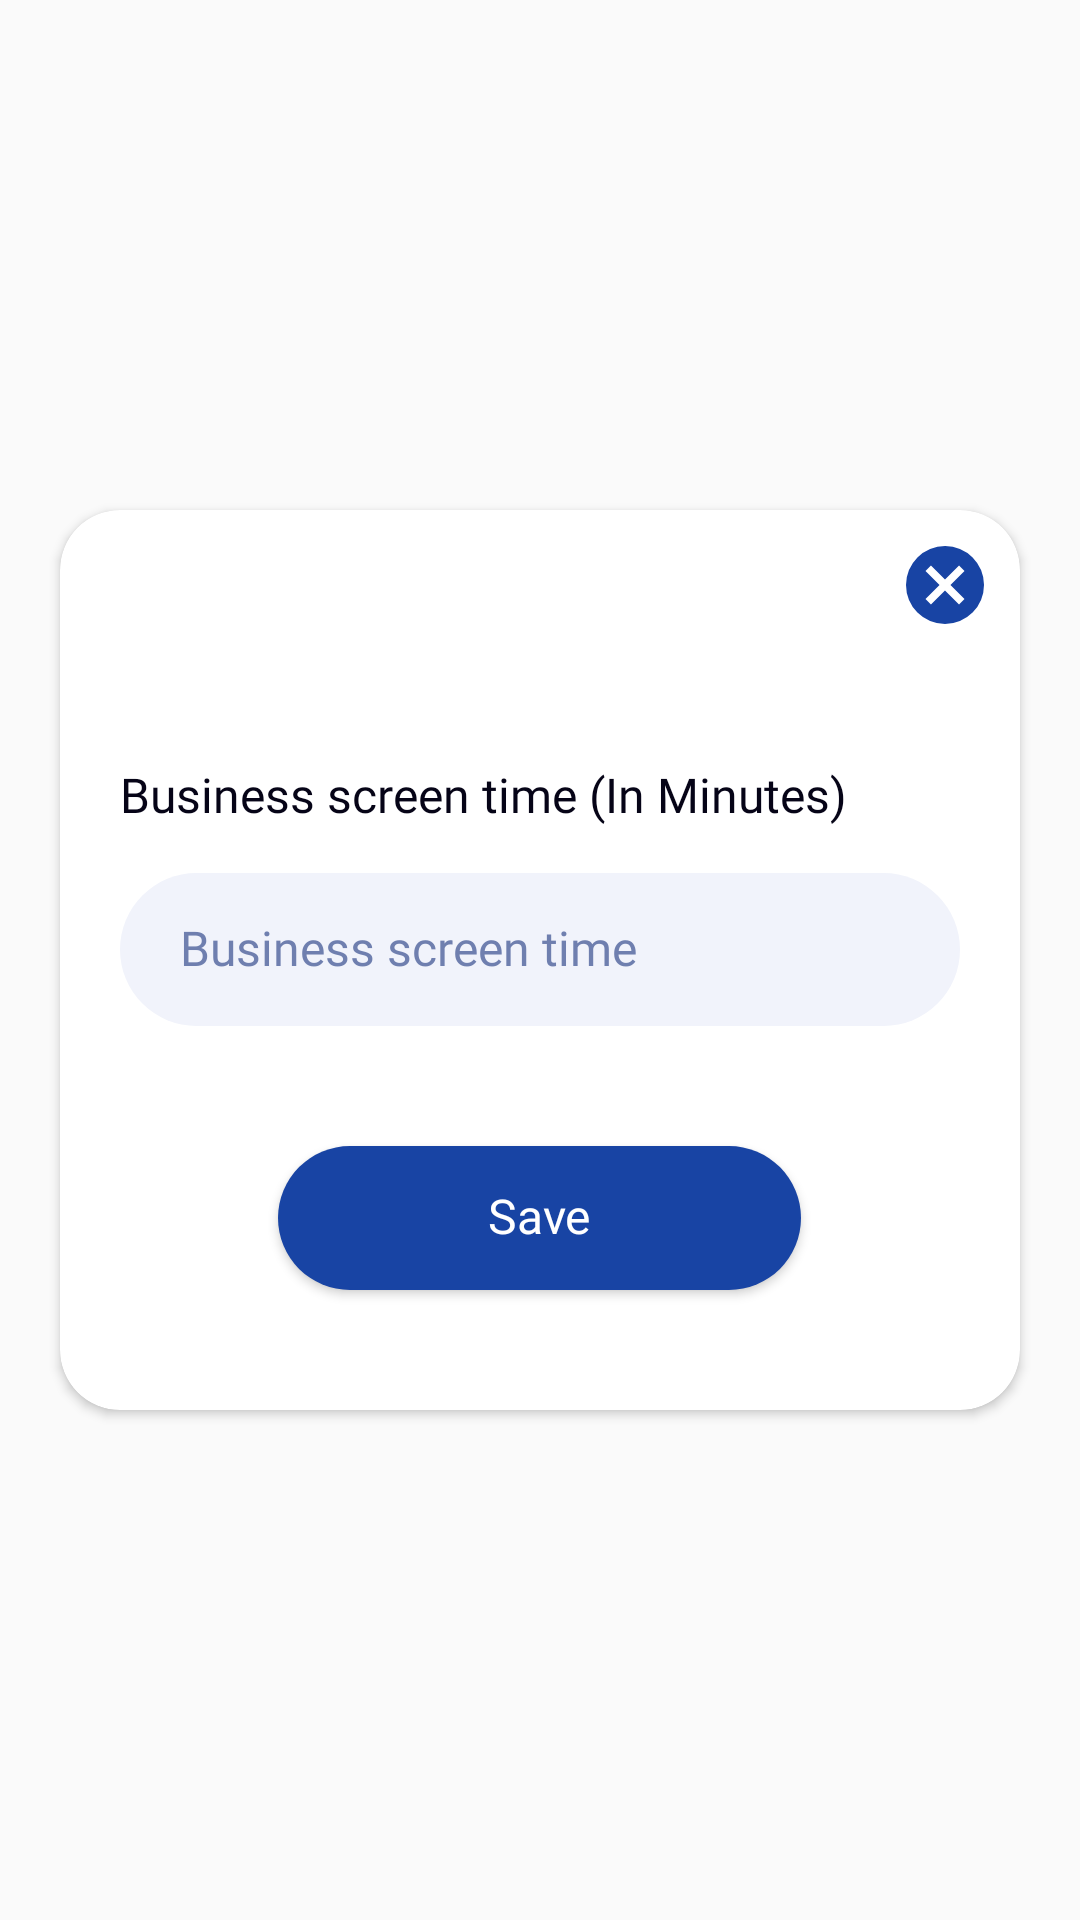

Screen size 1080px×1920px. Icon name, then its center in pixels as (x,y):
close dialog: (945,585)
